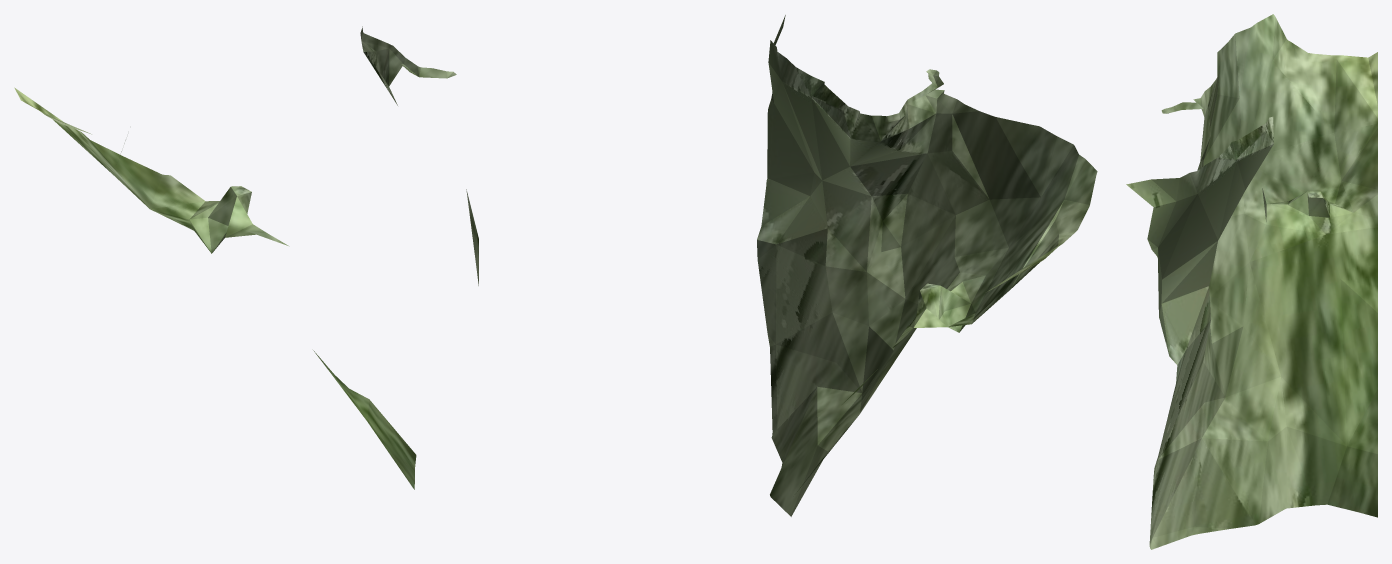
The picture shows the model from 3 angles, left to right: view 1: azimuth 30°, elevation 25°; view 2: azimuth 150°, elevation 25°; view 3: azimuth 270°, elevation 25°; orthographic projection. The views are drawn at different scales.
Bounding box in the file's own units: 2.95 × 2.95 × 1.84.
Materials: 3 (3 with a texture image).
